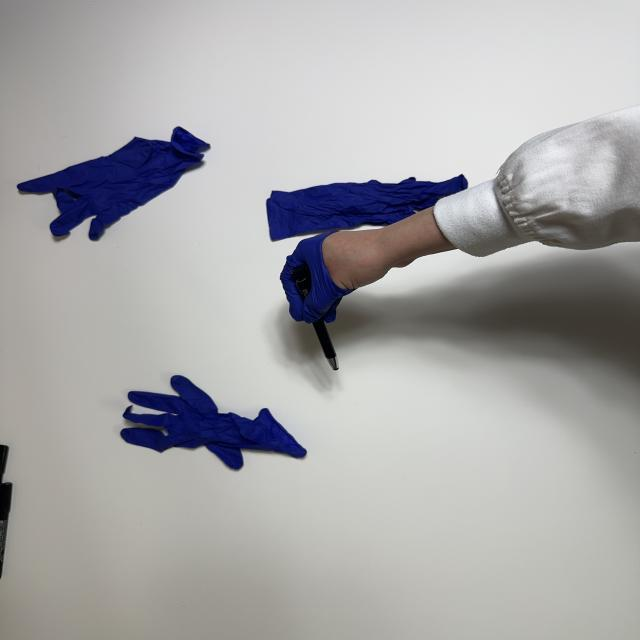glove_not_fitted: (276, 227, 398, 323)
